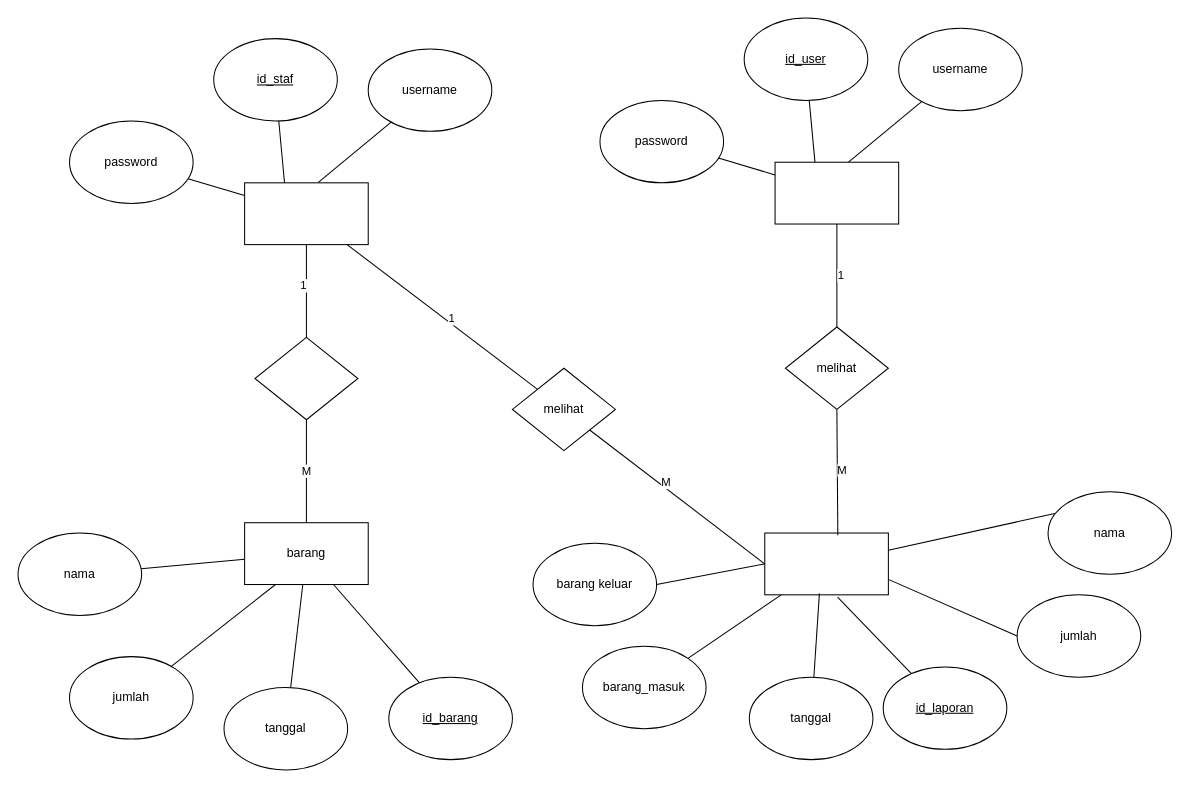
This 1190x788 diagram has some shape labels left out. The box of each missing label's shape, as (x1, y1, x2, y2) in pixels:
kepala_laundry: (774, 161, 899, 224)
laporan: (764, 532, 888, 595)
mengelola: (254, 336, 358, 420)
staff: (244, 182, 368, 245)
